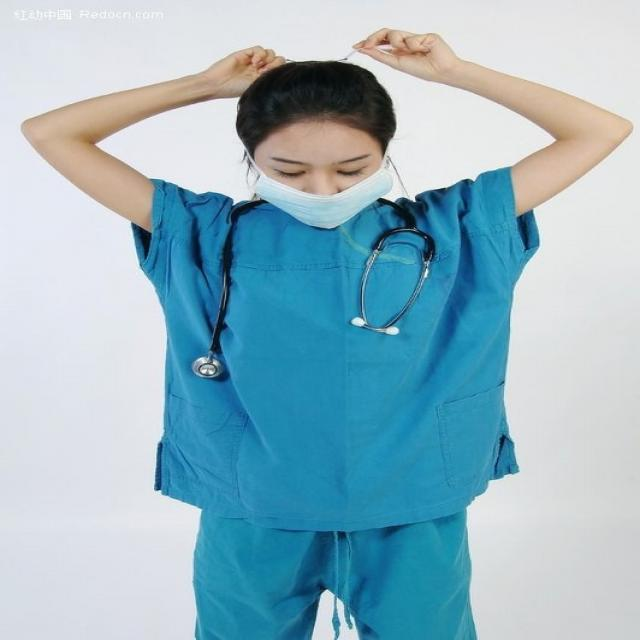mask: (255, 116, 383, 230)
